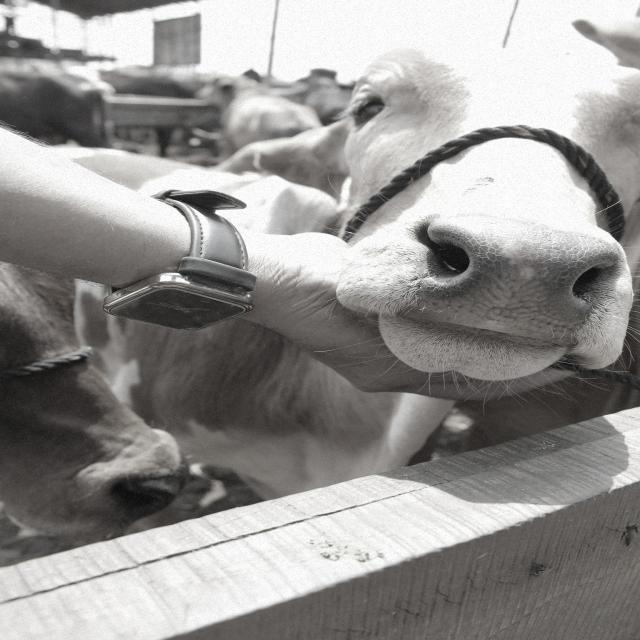muzzles: (392, 213, 636, 350)
